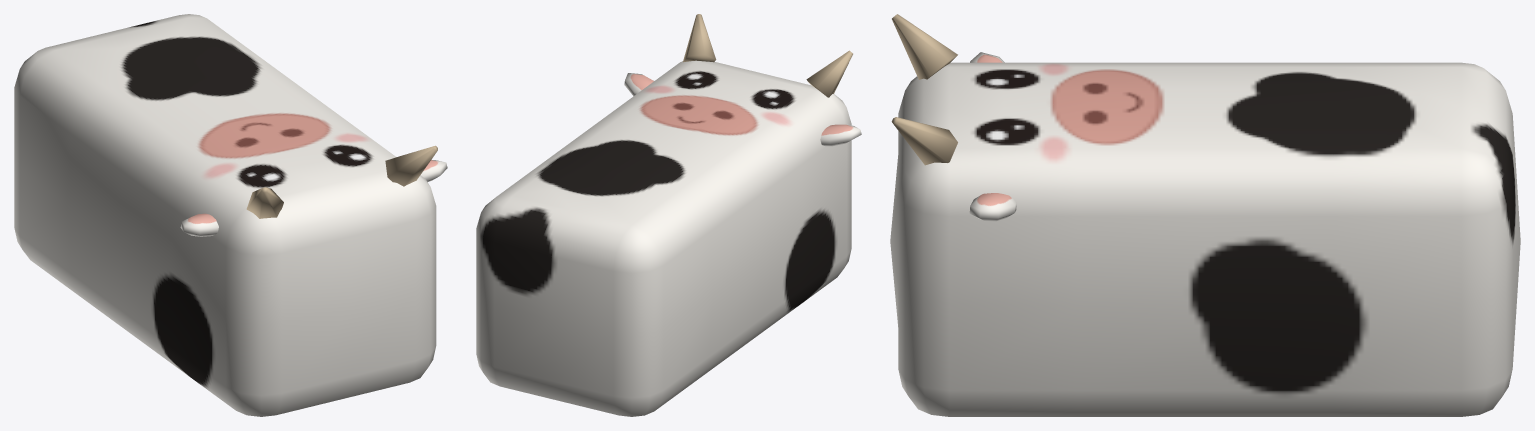
The model's file is Cow_2x1.fbx.
3 views of the same model, side by side, from view 1: azimuth 30°, elevation 25°; view 2: azimuth 150°, elevation 25°; view 3: azimuth 270°, elevation 25° (orthographic). The views are drawn at different scales.
Parts seen in each view (by area): view 1: Cow_2x1; view 2: Cow_2x1; view 3: Cow_2x1.
Boxes of the visible parts, left/top/right/bottom form: Cow_2x1: left=14, top=14, right=447, bottom=416; Cow_2x1: left=476, top=14, right=861, bottom=416; Cow_2x1: left=890, top=14, right=1520, bottom=416.
Size of the model in its own units: 1.18 by 1.02 by 1.97.
1 material, 1 textured.
